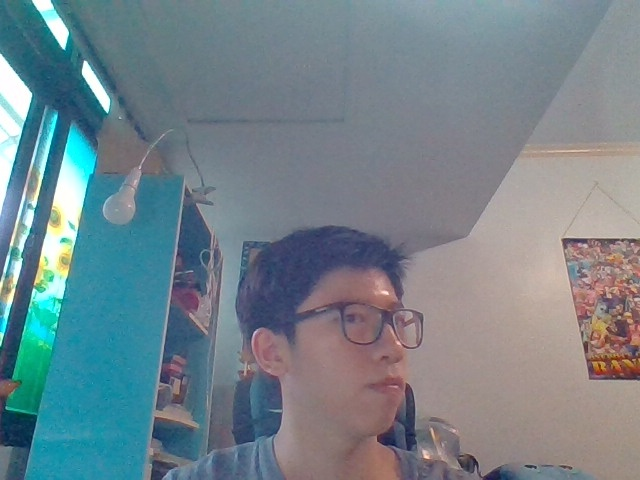NoMask: (249, 326, 409, 437)
